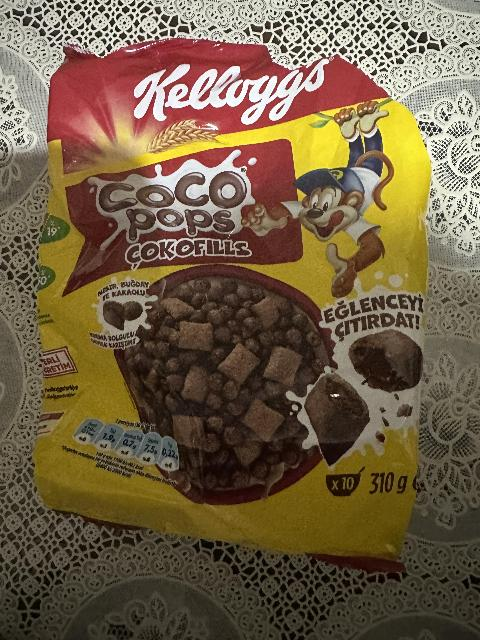Plastik: (46, 38, 413, 565)
